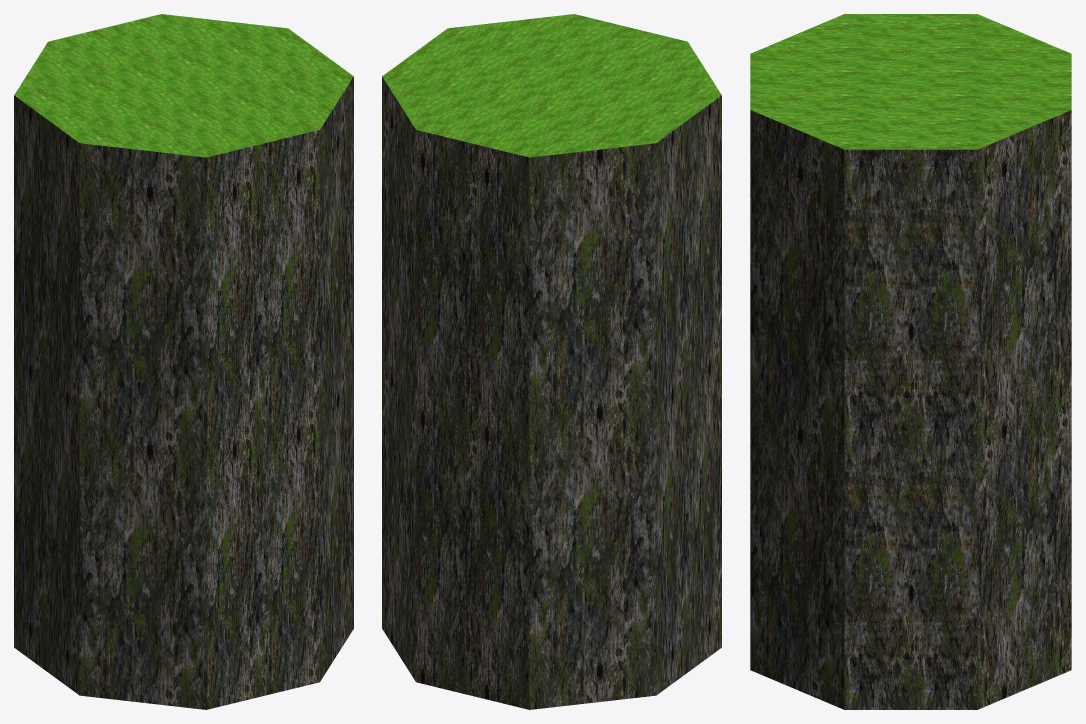
File: grass_pillar.obj
3 renders of one model, left to right at view 1: azimuth 30°, elevation 25°; view 2: azimuth 150°, elevation 25°; view 3: azimuth 270°, elevation 25°, orthographic.
Visible parts, largest first — view 1: Cylinderブラシ; view 2: Cylinderブラシ; view 3: Cylinderブラシ.
Part boxes in pixels (<box>): Cylinderブラシ: <box>14,14,353,709</box>; Cylinderブラシ: <box>382,14,721,709</box>; Cylinderブラシ: <box>750,14,1071,709</box>.
Bounding box in the file's own units: 4 × 7.7 × 4.
